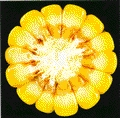corn: (3, 1, 119, 117)
